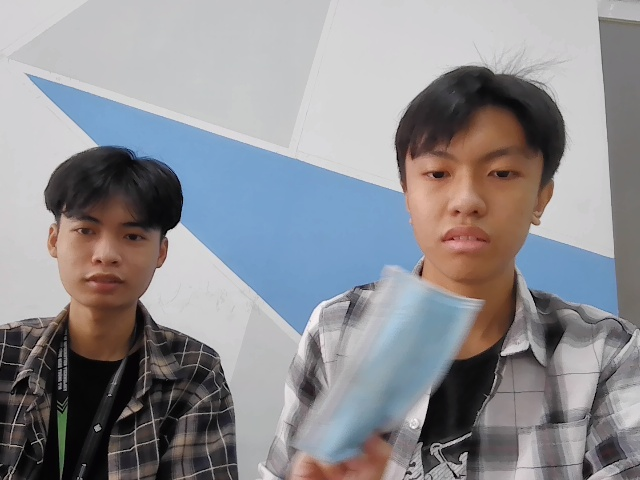human: (391, 65, 570, 280), (43, 149, 194, 315)
mask: (299, 259, 478, 467)
